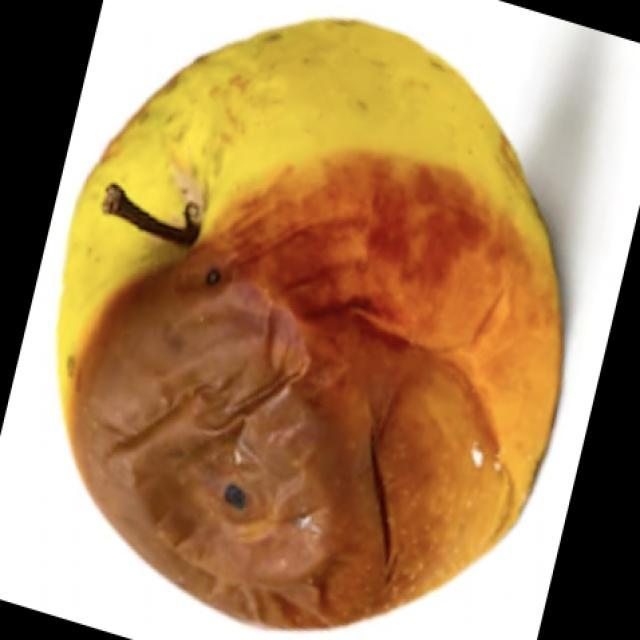Rotten: (83, 33, 580, 615)
